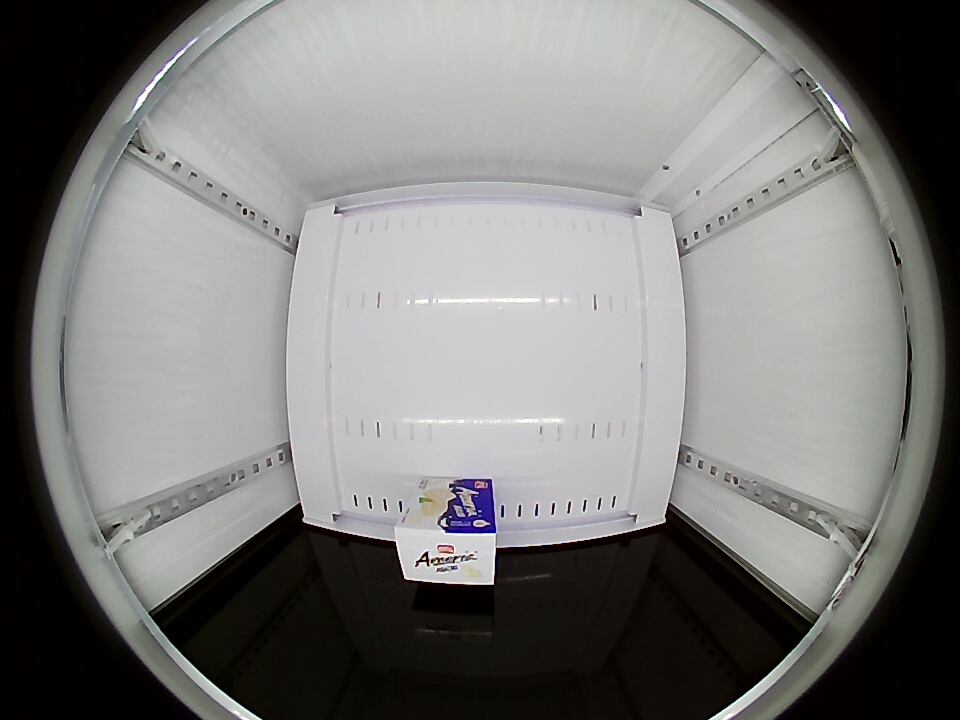meiniye: (394, 501, 499, 585)
